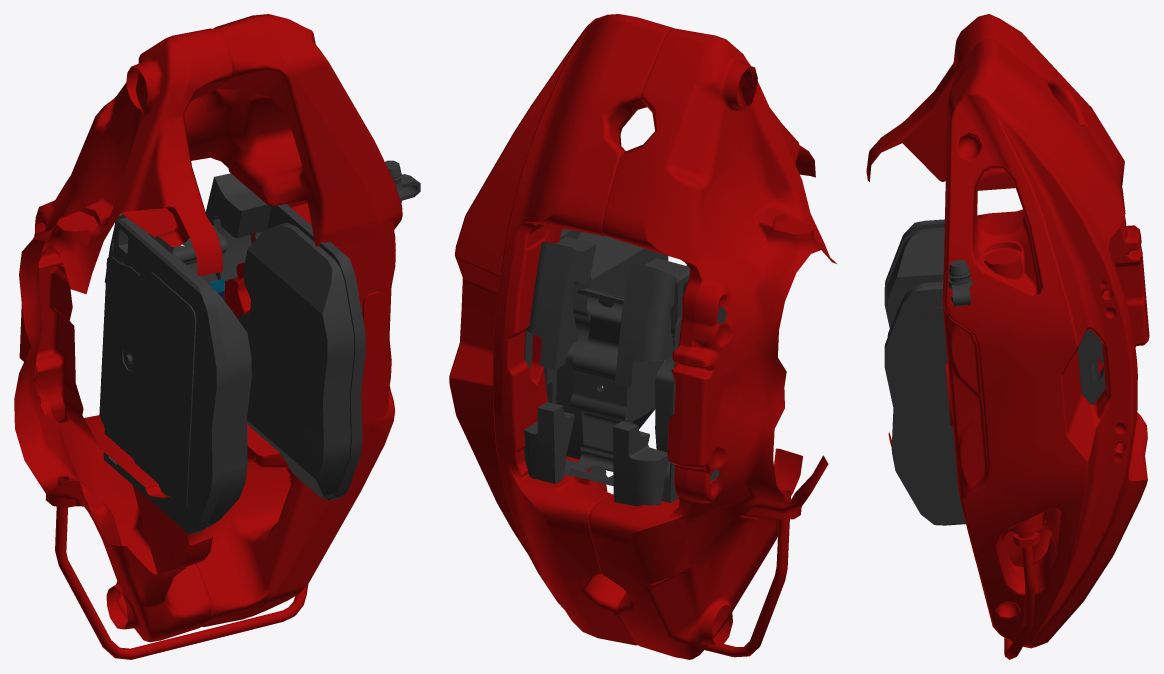
The model's file is brakes-front-right-1.gltf.
The picture shows the model from 3 angles, left to right: view 1: azimuth 30°, elevation 25°; view 2: azimuth 150°, elevation 25°; view 3: azimuth 270°, elevation 25°; orthographic projection. The views are drawn at different scales.
Visible parts, largest first — view 1: brake_pad_front_red_caliper_0_440, brake_pad_front_metal_Capiler_0_439; view 2: brake_pad_front_red_caliper_0_440, brake_pad_front_metal_Capiler_0_439; view 3: brake_pad_front_red_caliper_0_440, brake_pad_front_metal_Capiler_0_439.
Boxes of the visible parts, box(x1,y1,x2,y2) form: brake_pad_front_red_caliper_0_440: box(14, 14, 402, 659); brake_pad_front_metal_Capiler_0_439: box(99, 160, 420, 534); brake_pad_front_red_caliper_0_440: box(449, 14, 836, 659); brake_pad_front_metal_Capiler_0_439: box(524, 229, 726, 506); brake_pad_front_red_caliper_0_440: box(866, 14, 1149, 659); brake_pad_front_metal_Capiler_0_439: box(884, 219, 1105, 525).
Bounding box in the file's own units: 0.00195 × 0.00338 × 0.00148.
3 materials, 1 textured.
